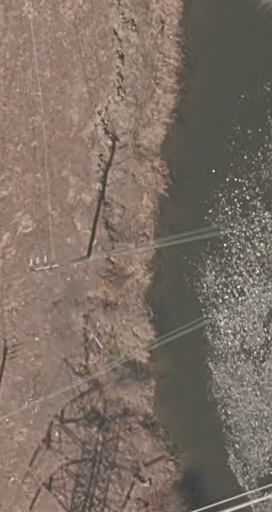DT: (24, 254, 61, 280)
